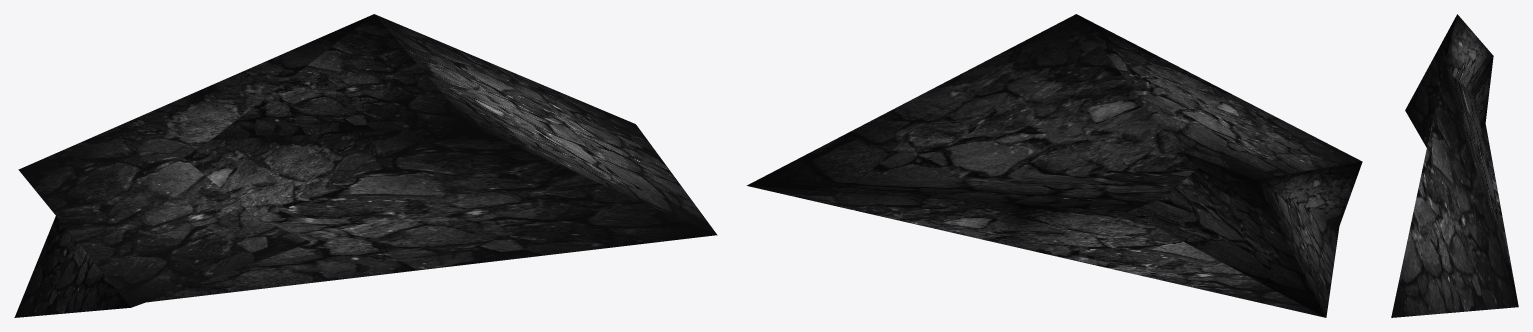
Rendered from RuinJ.FBX.
3 views of the same model, side by side, from view 1: azimuth 30°, elevation 25°; view 2: azimuth 150°, elevation 25°; view 3: azimuth 270°, elevation 25° (orthographic). The views are drawn at different scales.
Visible parts, largest first — view 1: Box001; view 2: Box001; view 3: Box001.
Boxes of the visible parts, x1,y1,x2,y2 form: Box001: (14,14,717,317); Box001: (746,14,1362,317); Box001: (1391,14,1518,317).
Bounding box in the file's own units: 100 × 37.69 × 27.16.
1 material, 1 textured.
